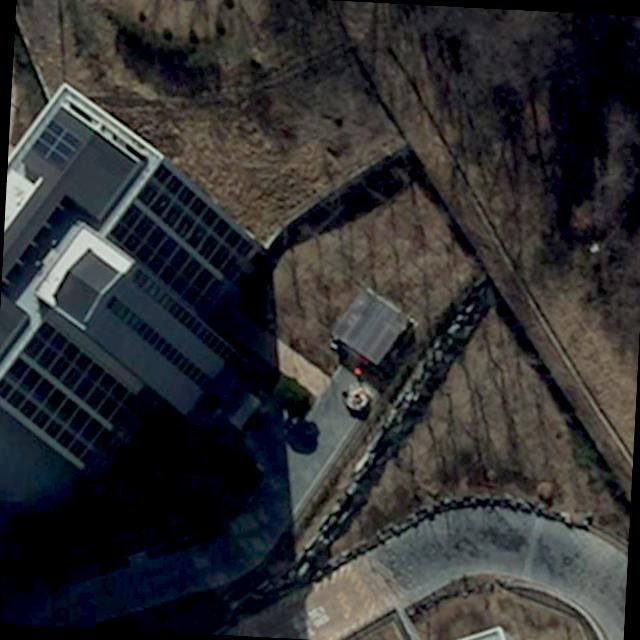solar: (26, 116, 88, 172)
